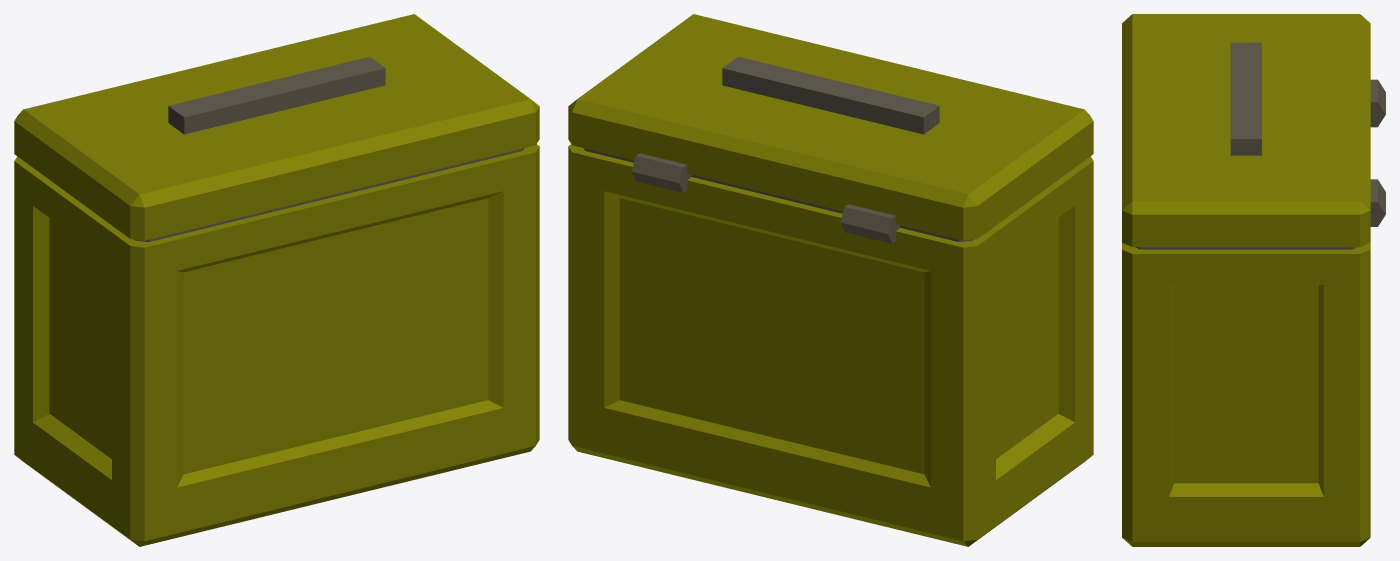
File: AmoBox_01.fbx
3 renders of one model, left to right at view 1: azimuth 30°, elevation 25°; view 2: azimuth 150°, elevation 25°; view 3: azimuth 270°, elevation 25°, orthographic.
Parts seen in each view (by area): view 1: AmoBox_01; view 2: AmoBox_01; view 3: AmoBox_01.
Boxes of the visible parts, x1=… form: AmoBox_01: x1=14, y1=14, x2=539, y2=546; AmoBox_01: x1=568, y1=14, x2=1093, y2=546; AmoBox_01: x1=1122, y1=14, x2=1385, y2=546.
Size of the model in its own units: 0.3506 by 0.3027 by 0.1995.
